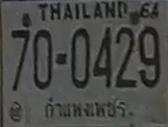0: (70, 27, 90, 88), (32, 29, 52, 89)
2: (115, 27, 137, 89)
4: (93, 26, 111, 88)
7: (12, 29, 31, 90)
9: (138, 26, 160, 88)
KPT: (43, 95, 128, 120)
